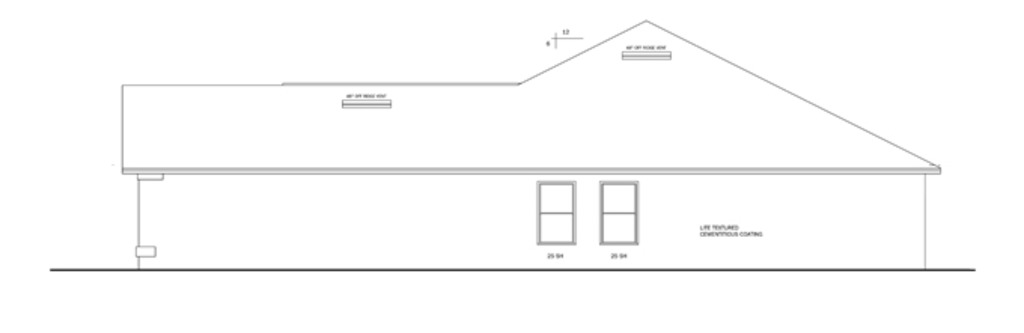door: (524, 172, 586, 256), (594, 175, 646, 252)
window: (615, 42, 674, 63), (341, 93, 394, 112)
